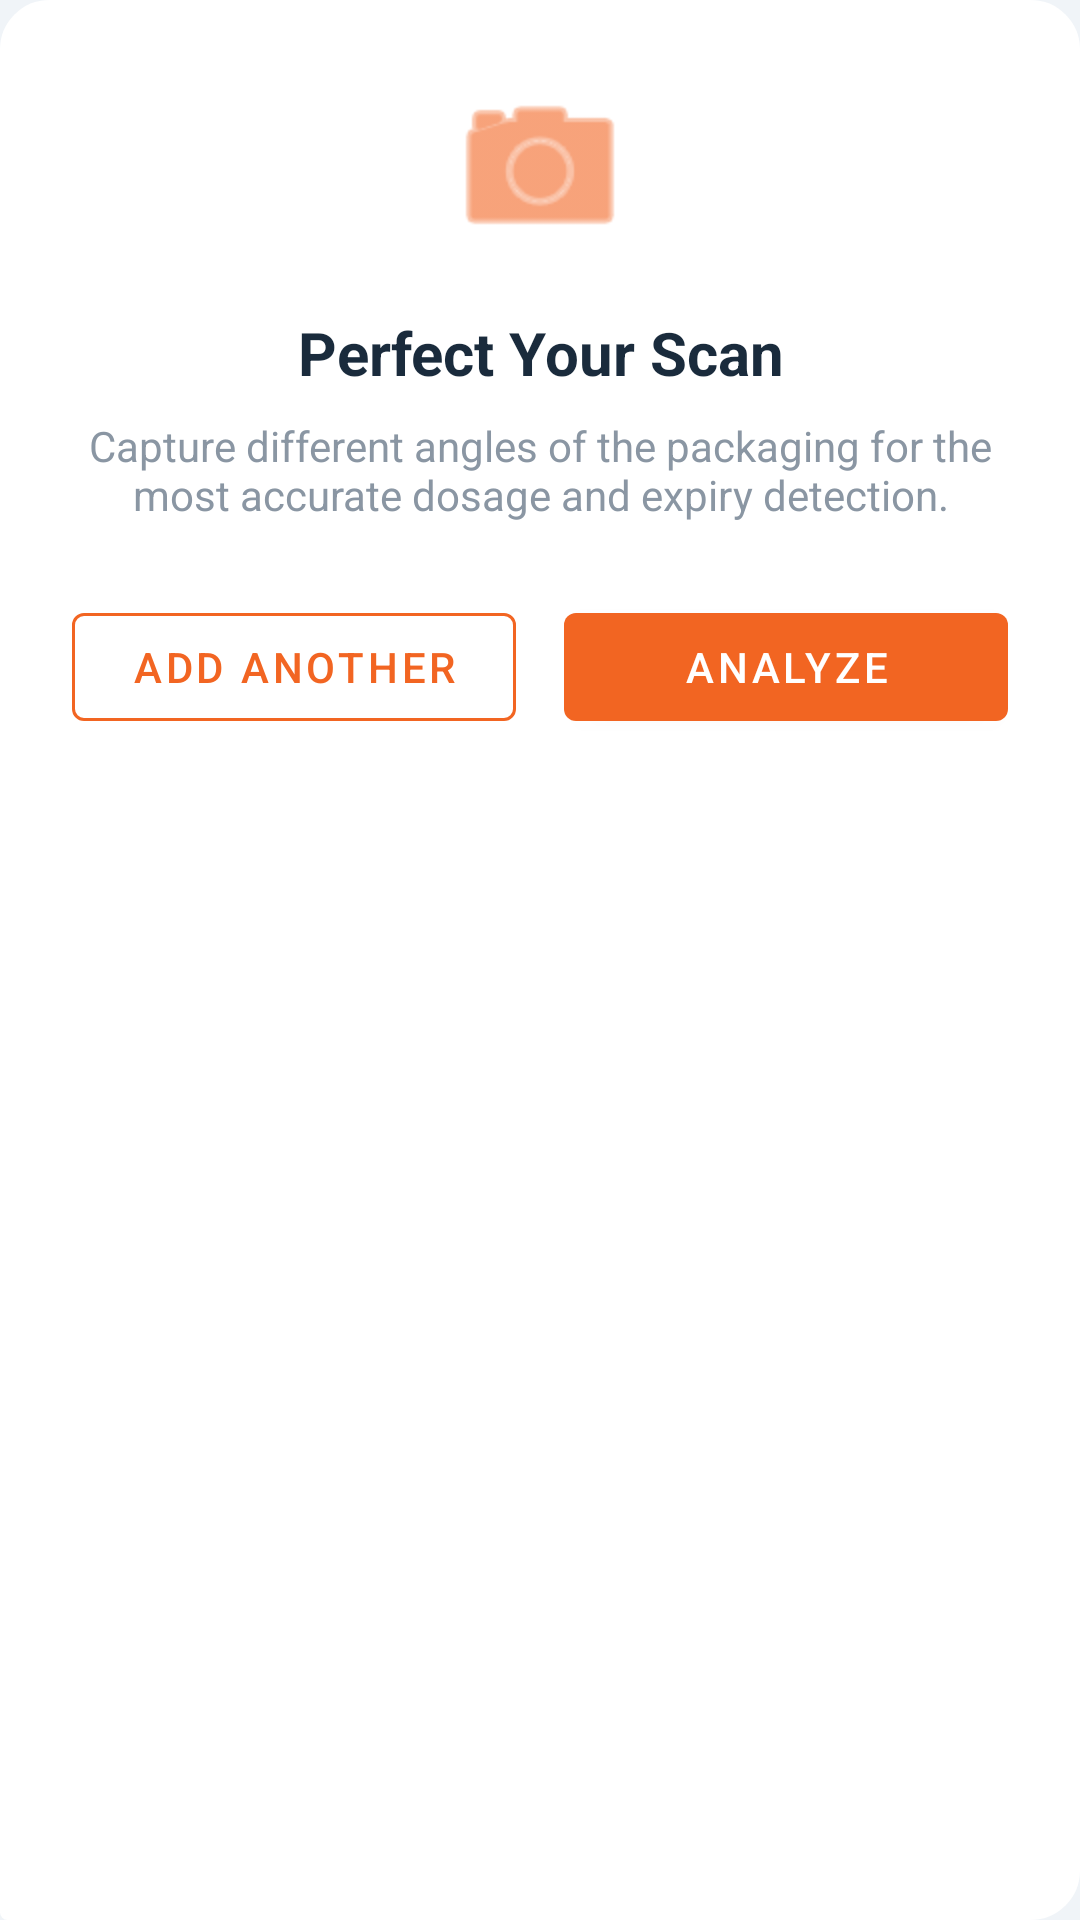

Where to tap for icons on this 1080 × 1920 app screen, as (x,y):
camera: (540,165)
